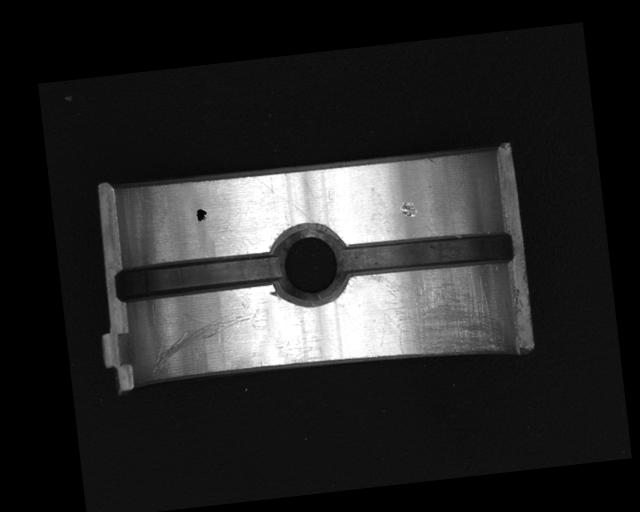blot: (195, 207, 208, 224)
bruise: (398, 199, 419, 220)
gap: (338, 225, 518, 284), (112, 249, 282, 304)
hole: (265, 222, 352, 308)
nick: (145, 303, 262, 374)
scratch: (369, 260, 508, 366)
